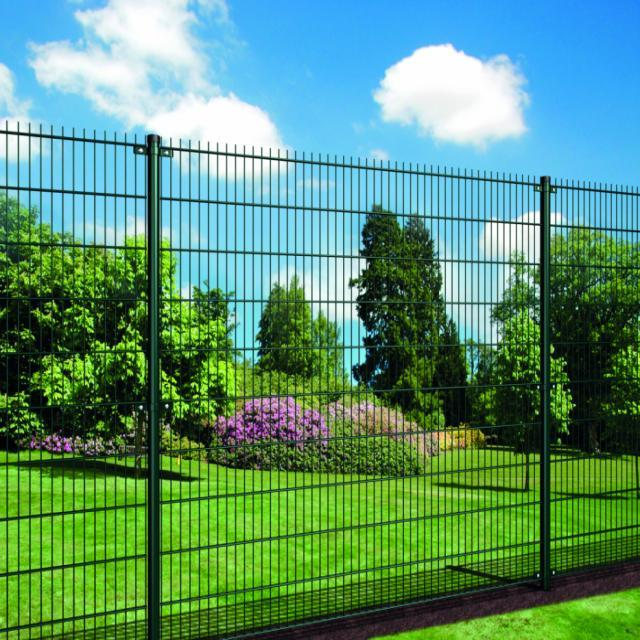fence line: (5, 122, 640, 626)
